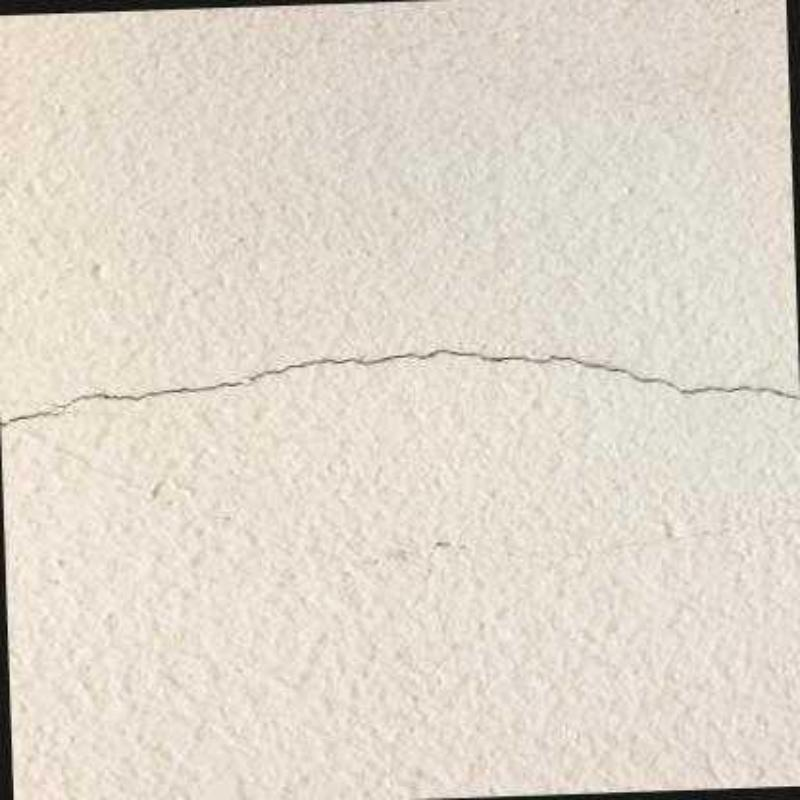pothole: (0, 348, 800, 424)
